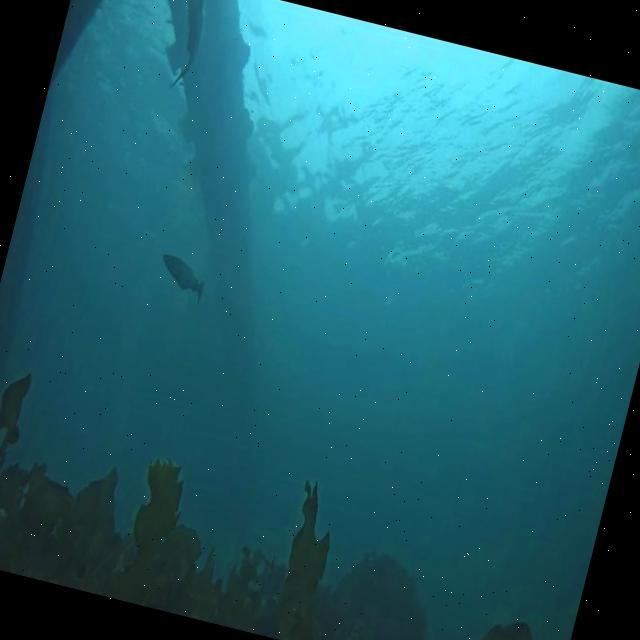fish: (159, 0, 215, 90), (154, 251, 212, 302)
